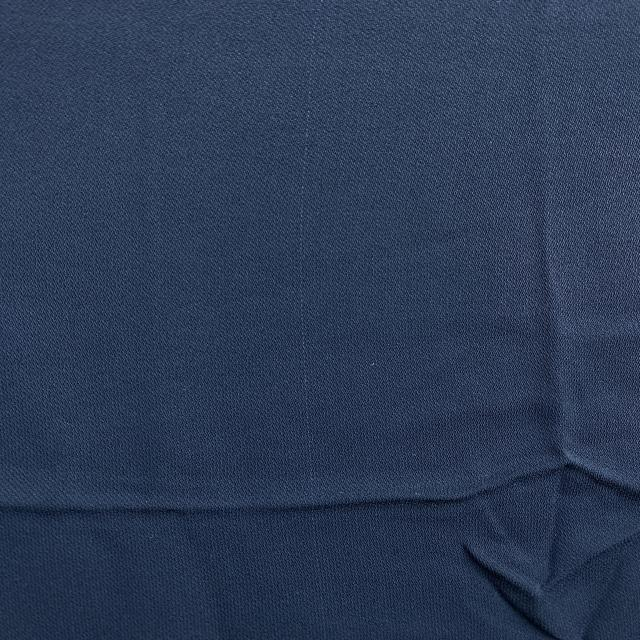broken_yarn: (2, 460, 578, 515), (541, 274, 639, 501), (461, 537, 634, 639)
